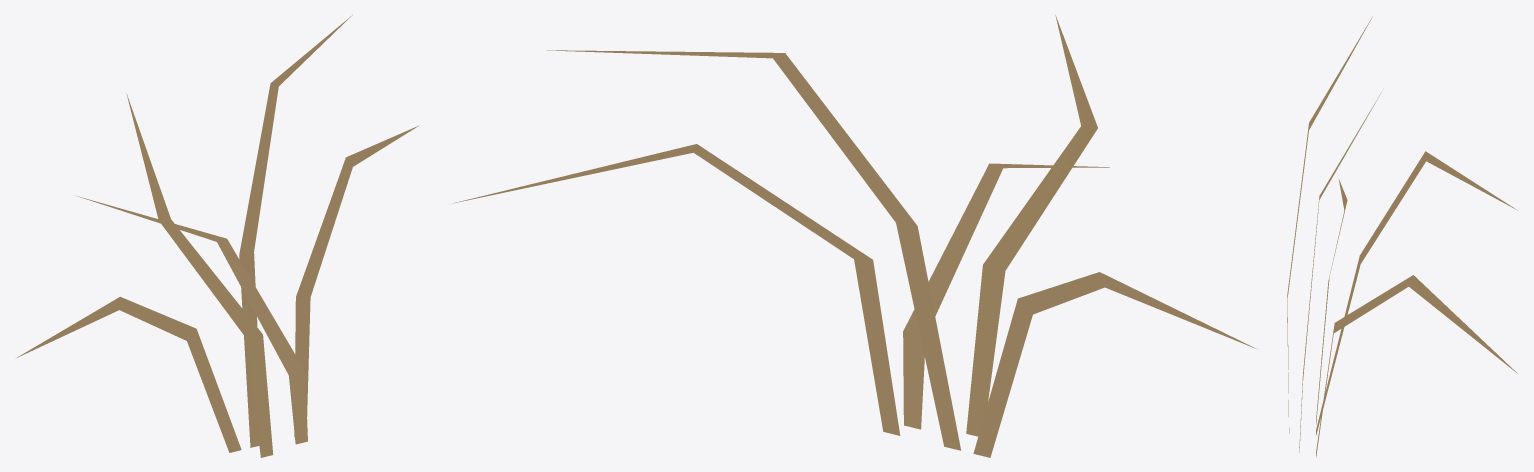
Rendered from Grass_f_TwoS_04.fbx.
The picture shows the model from 3 angles, left to right: view 1: azimuth 30°, elevation 25°; view 2: azimuth 150°, elevation 25°; view 3: azimuth 270°, elevation 25°; orthographic projection. The views are drawn at different scales.
Visible parts, largest first — view 1: Grass_f_TwoS_04; view 2: Grass_f_TwoS_04; view 3: Grass_f_TwoS_04.
Boxes of the visible parts, <box> form: Grass_f_TwoS_04: <box>17,15,418,457</box>; Grass_f_TwoS_04: <box>452,15,1256,457</box>; Grass_f_TwoS_04: <box>1287,16,1517,457</box>.
Size of the model in its own units: 0.5627 by 0.3901 by 0.2235.
